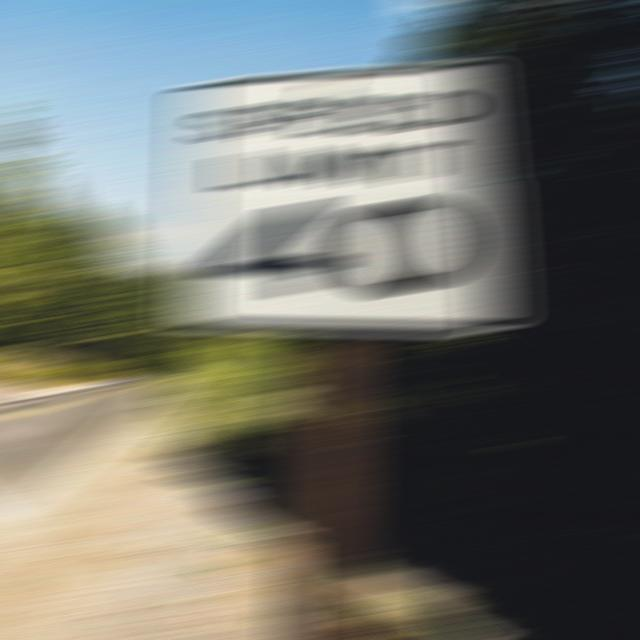speedLimit40: (176, 72, 509, 324)
